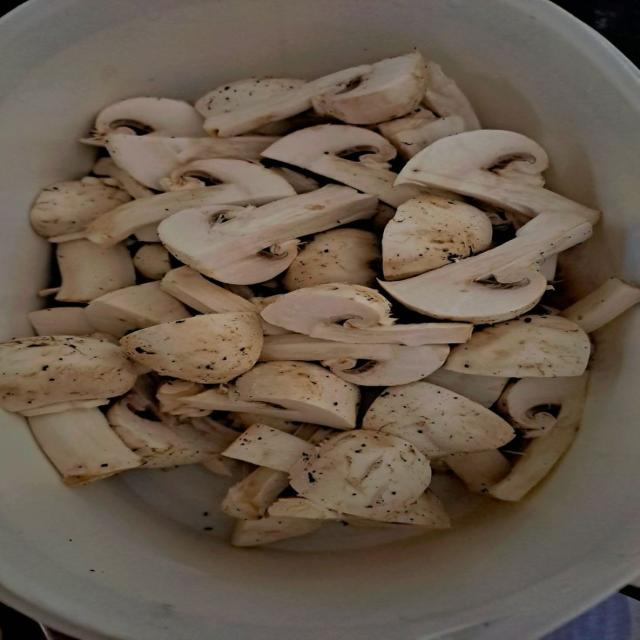champignon mushrooms: (380, 213, 592, 323), (159, 185, 376, 284), (396, 130, 599, 222), (87, 160, 295, 245), (263, 125, 429, 206), (165, 361, 359, 429), (262, 284, 471, 345), (290, 430, 431, 518), (489, 374, 587, 500), (205, 66, 371, 137), (363, 382, 514, 458), (0, 336, 135, 415), (107, 389, 237, 467), (122, 312, 262, 383), (378, 62, 479, 159), (107, 135, 277, 189), (383, 196, 492, 280), (444, 316, 591, 377), (28, 408, 142, 485), (236, 361, 359, 429), (312, 52, 424, 124), (31, 177, 131, 237), (283, 229, 380, 290), (86, 282, 190, 337), (83, 97, 202, 145), (323, 343, 449, 386), (160, 159, 296, 196), (56, 239, 135, 302), (498, 377, 575, 437), (161, 266, 258, 313), (378, 109, 466, 160), (196, 78, 307, 118), (223, 424, 314, 472), (341, 490, 451, 529), (560, 278, 639, 332), (424, 61, 480, 130), (259, 334, 397, 362), (222, 467, 289, 519), (425, 368, 508, 407), (376, 490, 451, 529), (443, 450, 511, 493), (231, 517, 322, 546), (93, 158, 153, 199), (156, 380, 210, 417), (28, 307, 94, 335), (269, 497, 339, 520), (227, 412, 299, 433), (133, 243, 171, 280), (271, 167, 319, 193), (371, 203, 395, 234), (261, 316, 292, 335)
